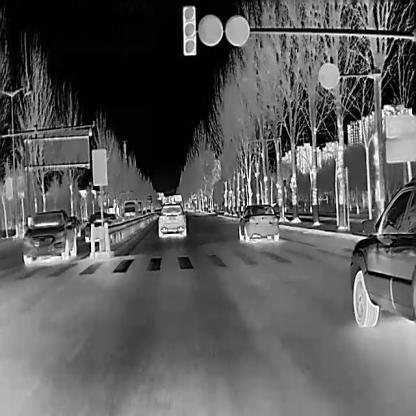car: (349, 173, 415, 328), (21, 206, 77, 264), (238, 202, 280, 242), (155, 201, 186, 237), (84, 210, 111, 243), (124, 200, 139, 223)
